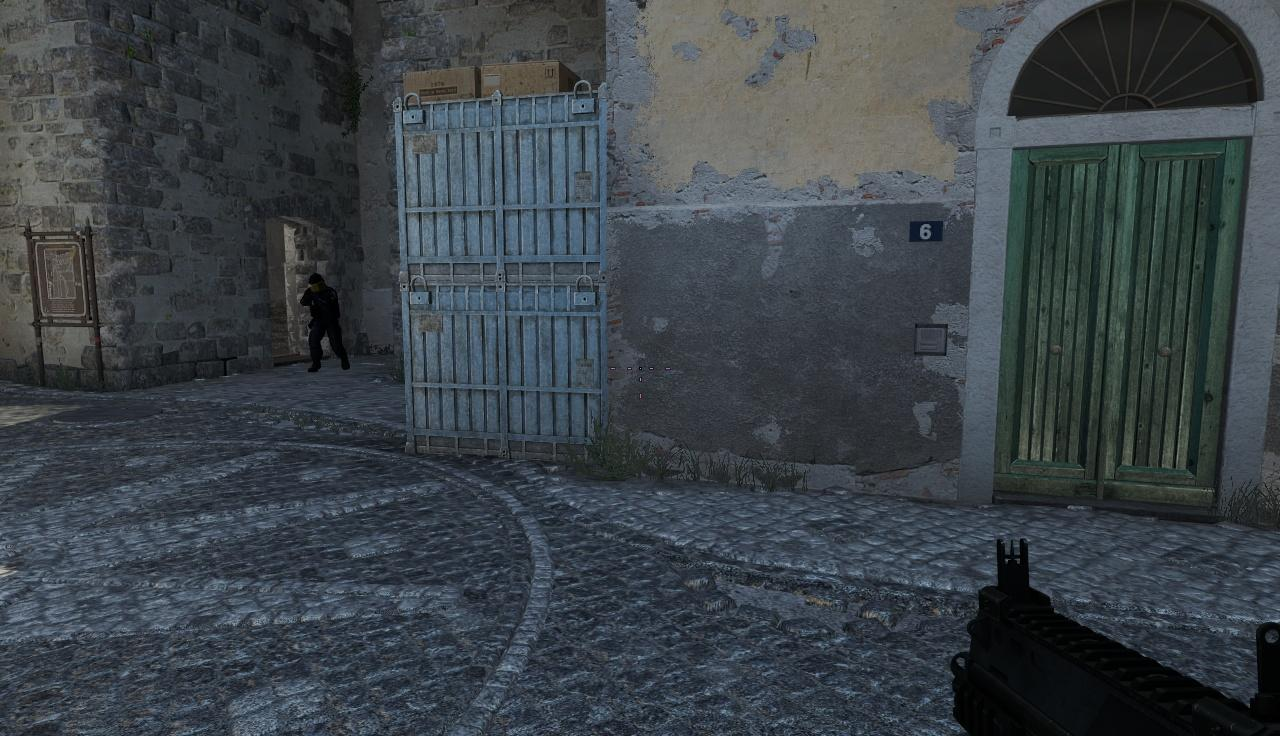ct: (301, 274, 341, 373)
cthead: (308, 274, 326, 292)
rifle: (945, 536, 1280, 736)
